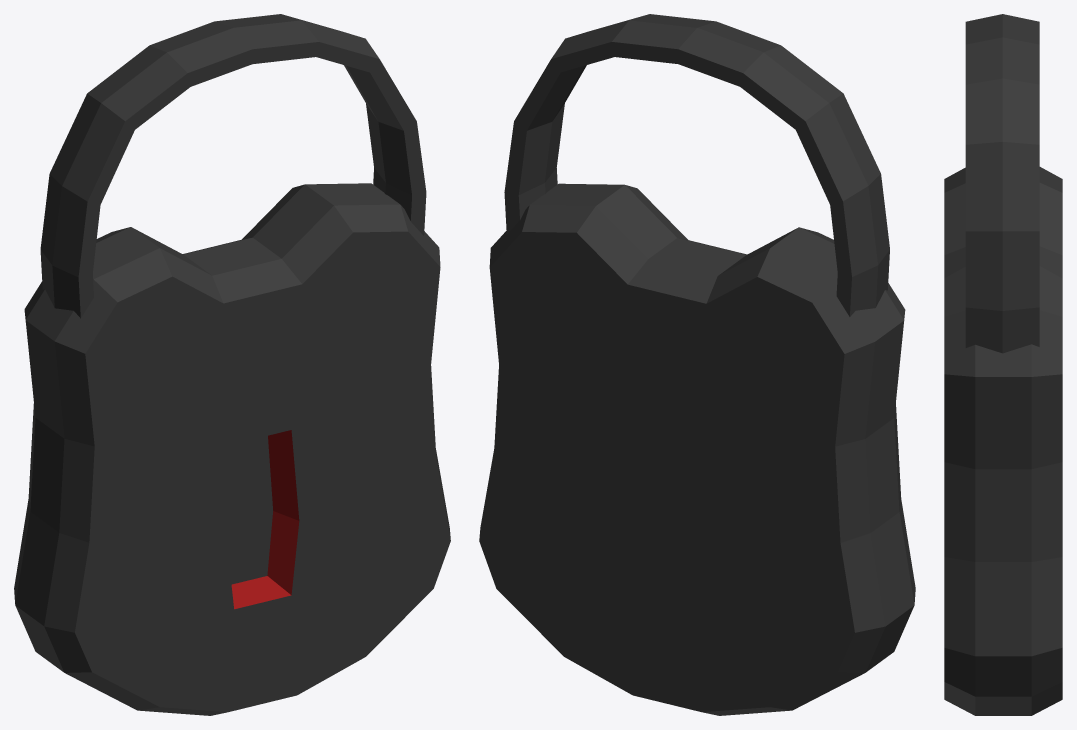
The model's file is Lock_FBX.fbx.
The picture shows the model from 3 angles, left to right: view 1: azimuth 30°, elevation 25°; view 2: azimuth 150°, elevation 25°; view 3: azimuth 270°, elevation 25°; orthographic projection. The views are drawn at different scales.
Visible parts, largest first — view 1: Lock_Body, Lock_Handle; view 2: Lock_Body, Lock_Handle; view 3: Lock_Body, Lock_Handle.
Part boxes in pixels (x1,y1,x2,y2): Lock_Body: (14, 183, 450, 715); Lock_Handle: (40, 14, 426, 318); Lock_Body: (479, 183, 915, 715); Lock_Handle: (504, 14, 889, 316); Lock_Body: (944, 167, 1062, 715); Lock_Handle: (965, 14, 1039, 353).
Size of the model in its own units: 25.18 by 39.68 by 6.54.
